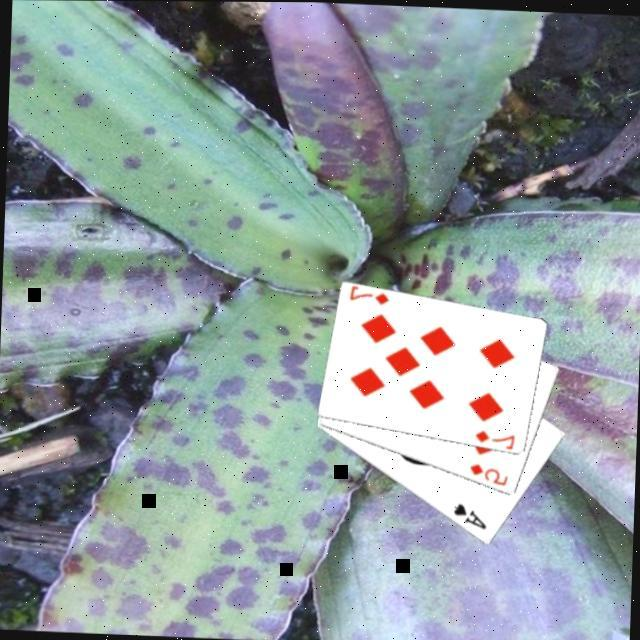5D: (467, 460, 512, 490)
7D: (346, 285, 393, 309), (472, 428, 518, 452)
AS: (450, 501, 491, 534)
